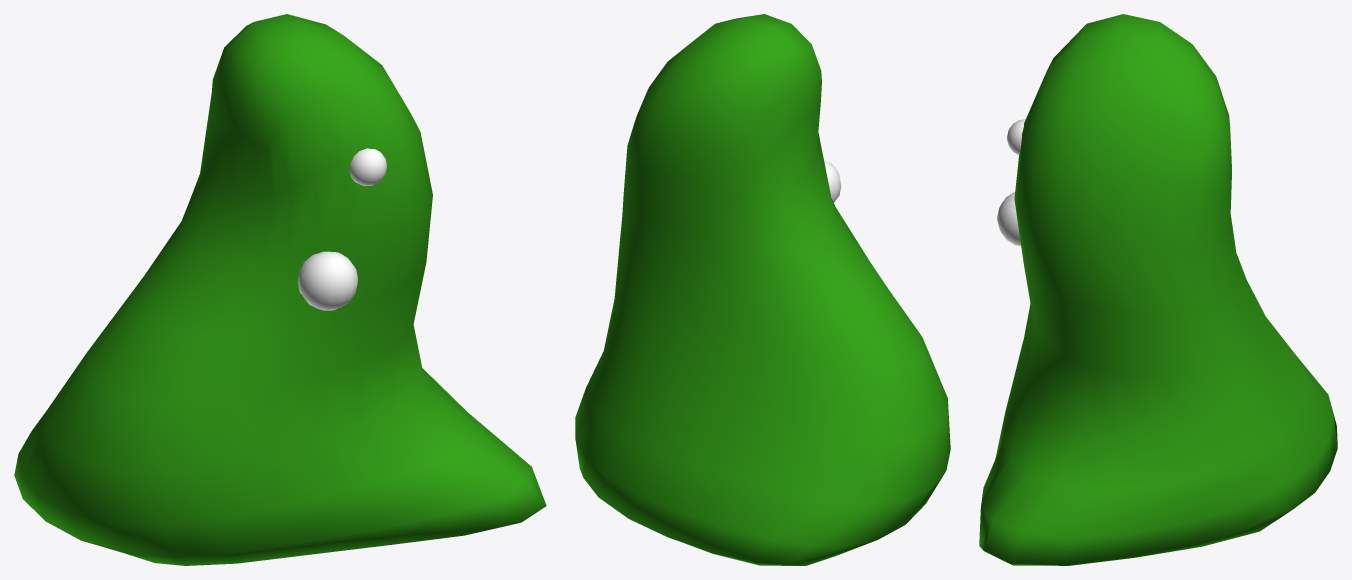
File: Slime_07.fbx
3 views of the same model, side by side, from view 1: azimuth 30°, elevation 25°; view 2: azimuth 150°, elevation 25°; view 3: azimuth 270°, elevation 25° (orthographic). The views are drawn at different scales.
Visible parts, largest first — view 1: Slime_07; view 2: Slime_07; view 3: Slime_07.
Boxes of the visible parts, left/top/right/bottom form: Slime_07: left=14, top=14, right=546, bottom=565; Slime_07: left=575, top=14, right=950, bottom=565; Slime_07: left=979, top=14, right=1337, bottom=565.
Bounding box in the file's own units: 1.02 × 1.18 × 0.807.
